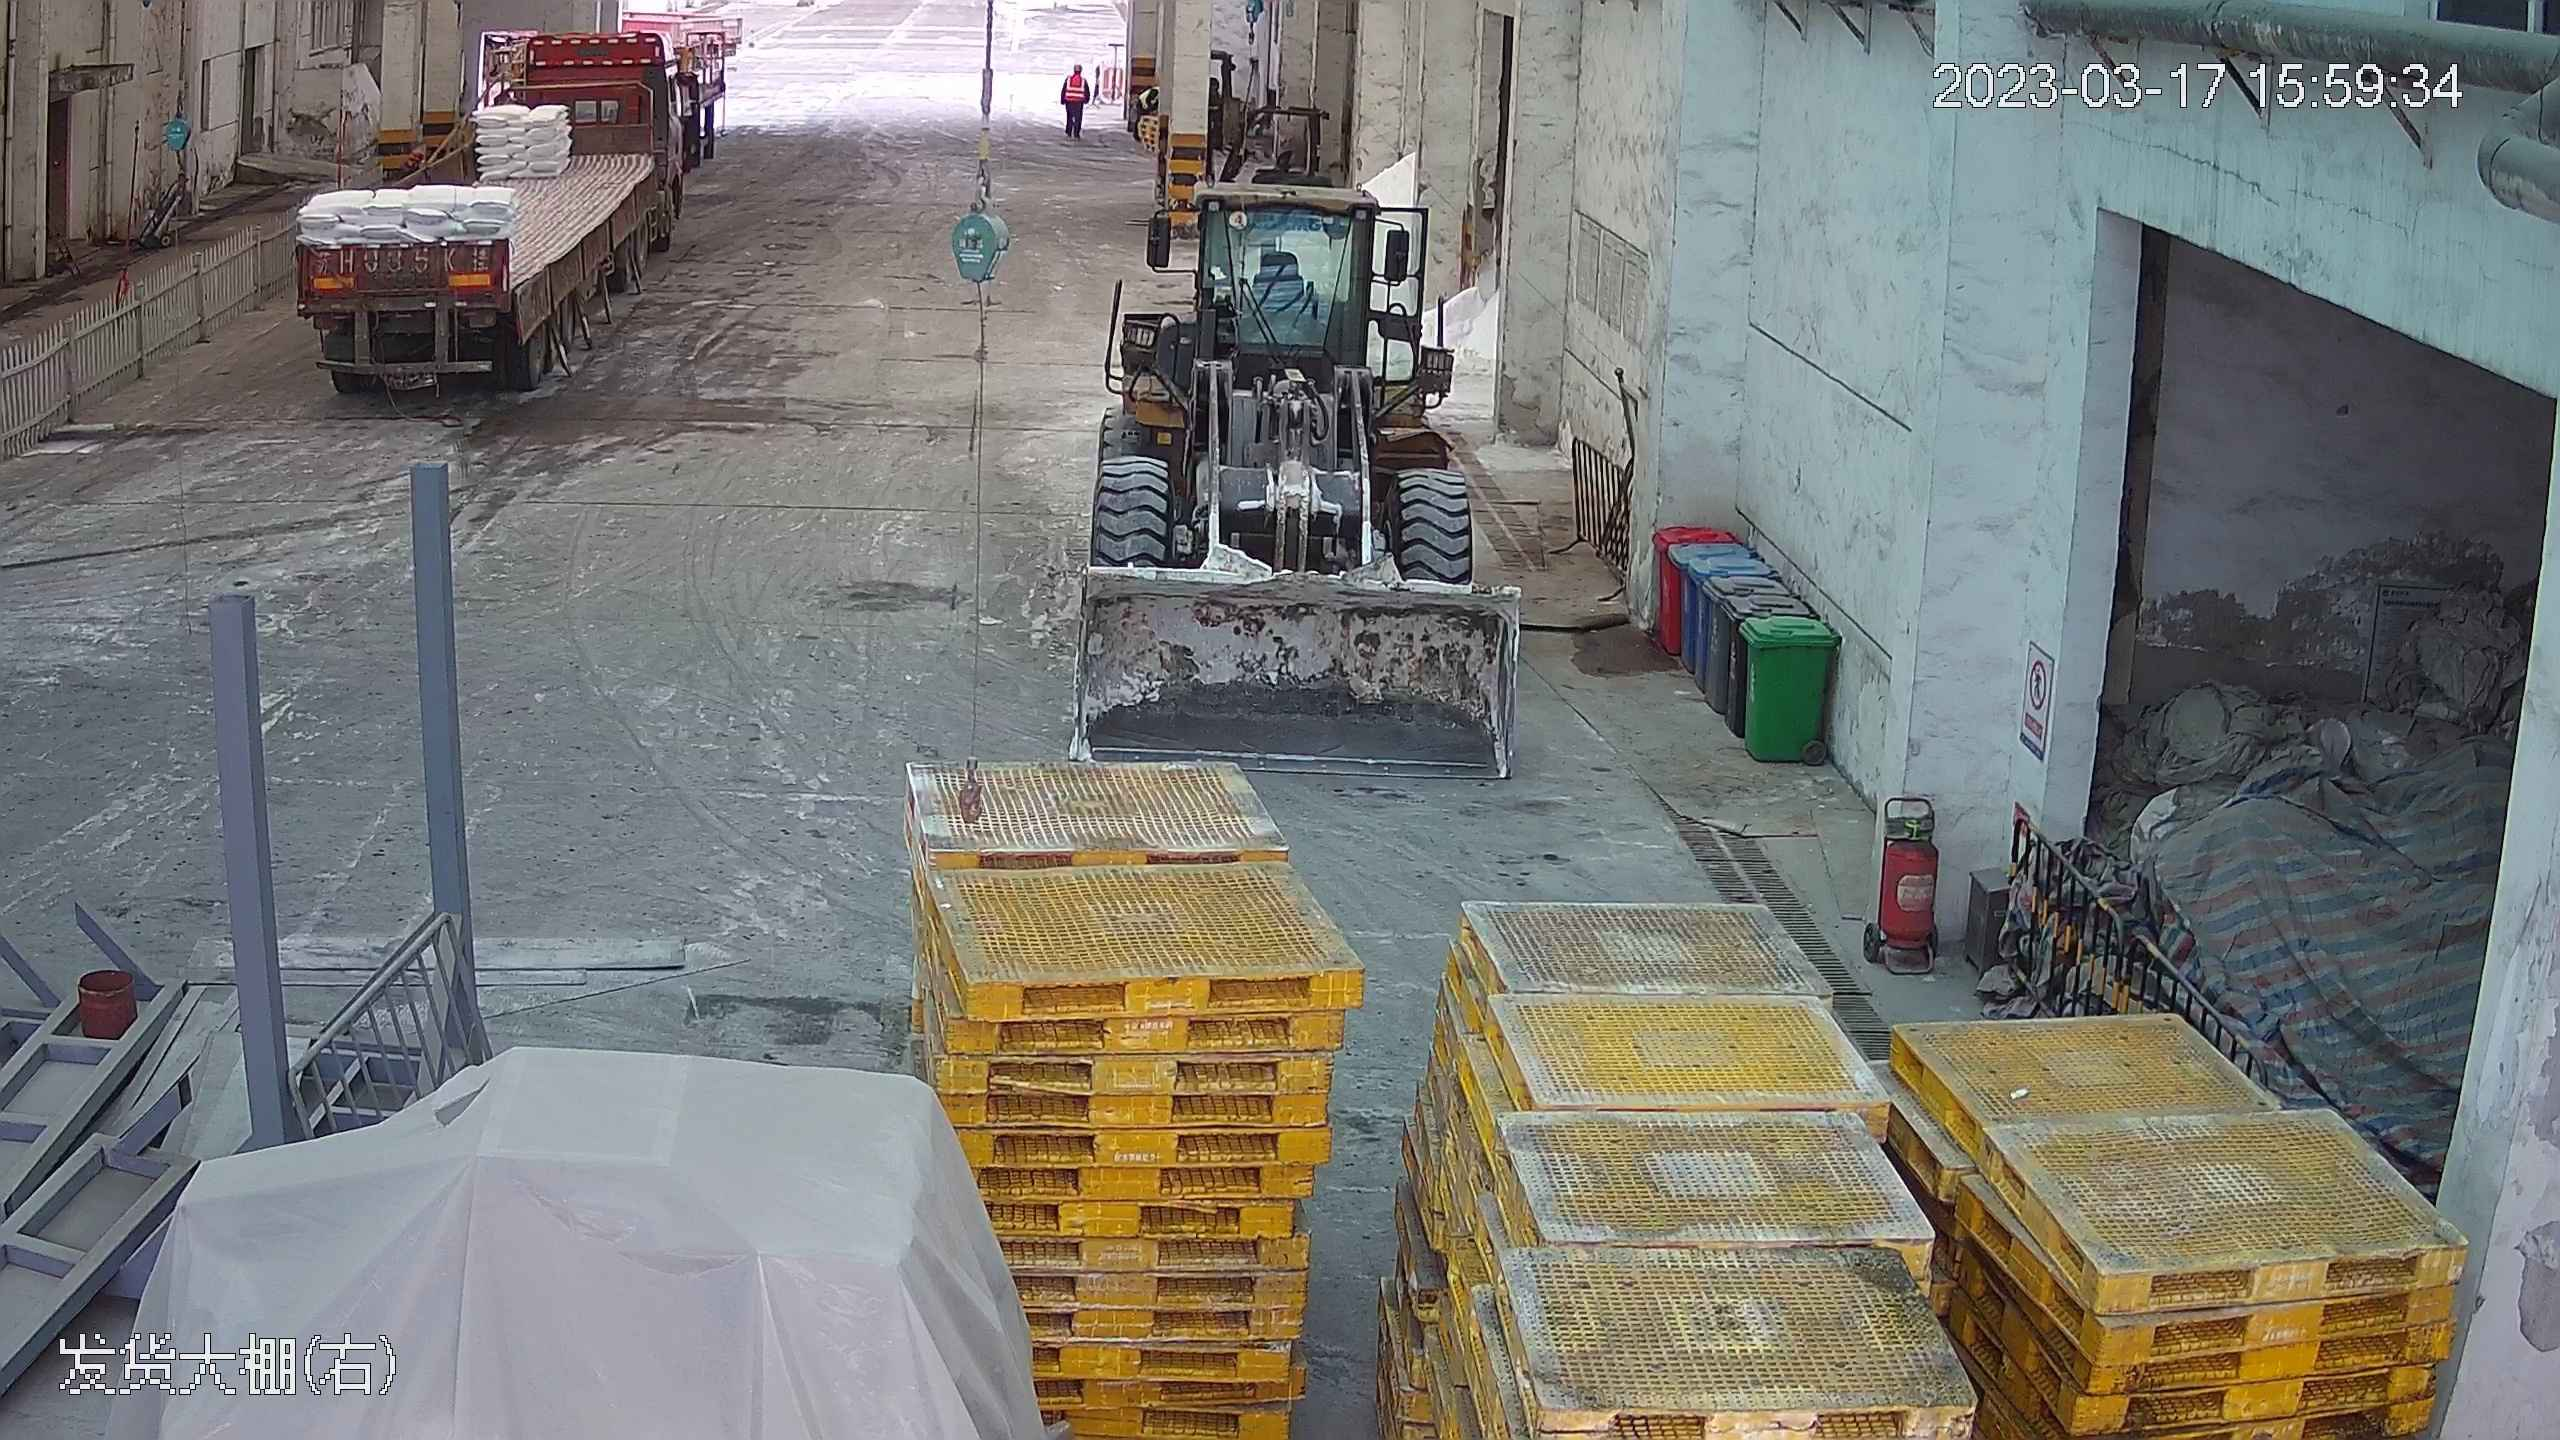head: (1067, 58, 1091, 87)
helmet: (1073, 62, 1082, 73)
people: (1058, 64, 1092, 138)
truck: (271, 11, 702, 411)
